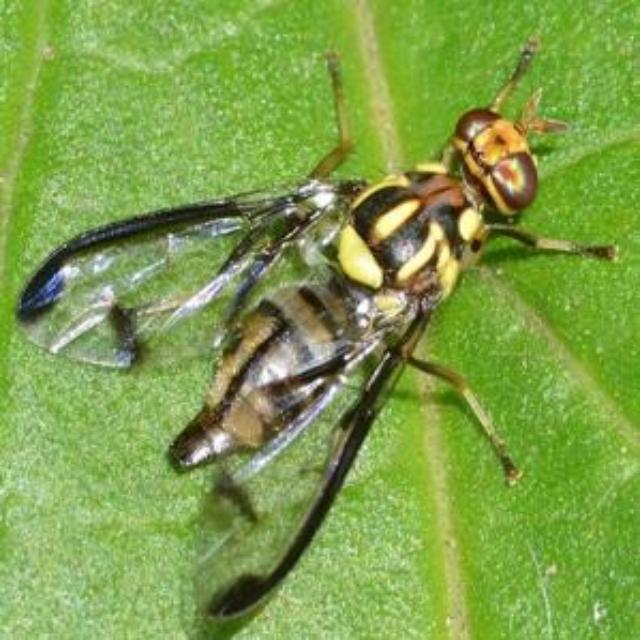melon fly: (54, 52, 624, 640)
